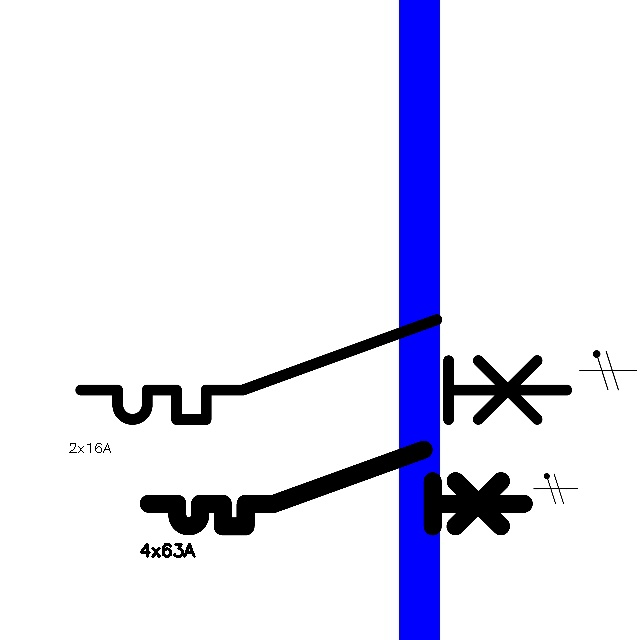interruptor_termomagnetico: (68, 307, 579, 432), (139, 440, 533, 536)
